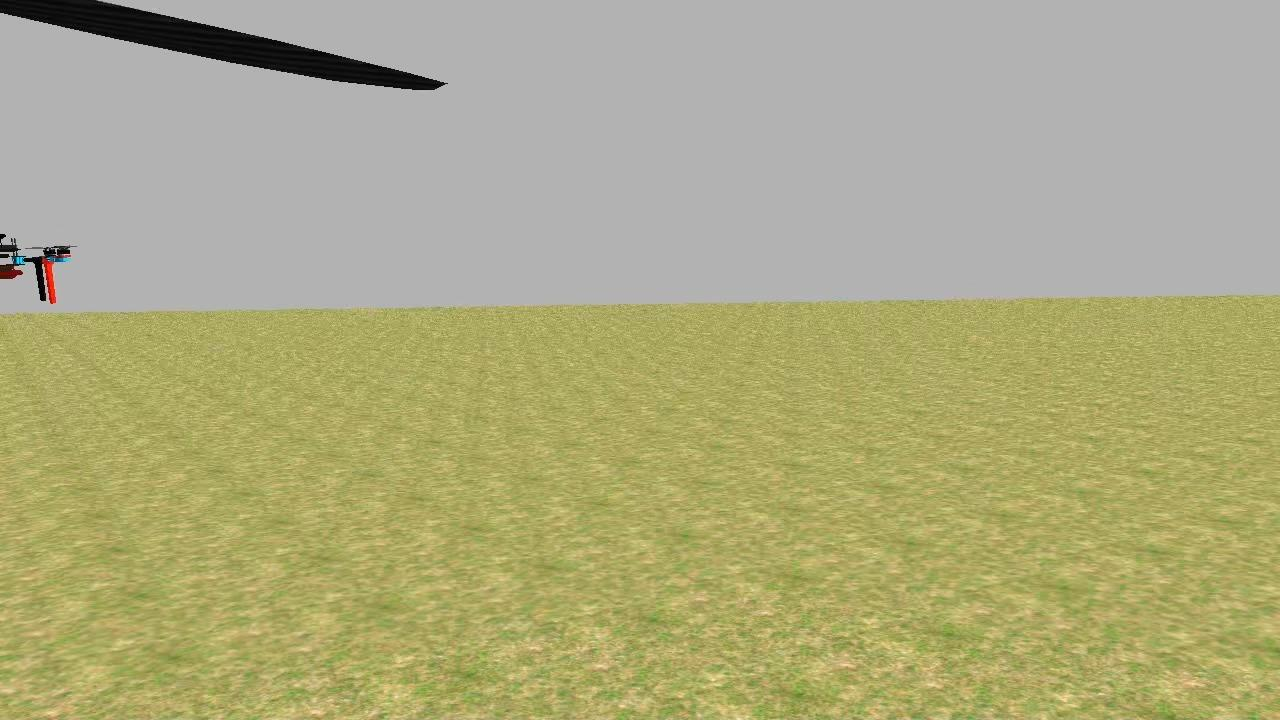UAV: (0, 226, 84, 310)
